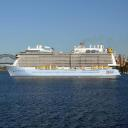cruises: (5, 44, 124, 78)
